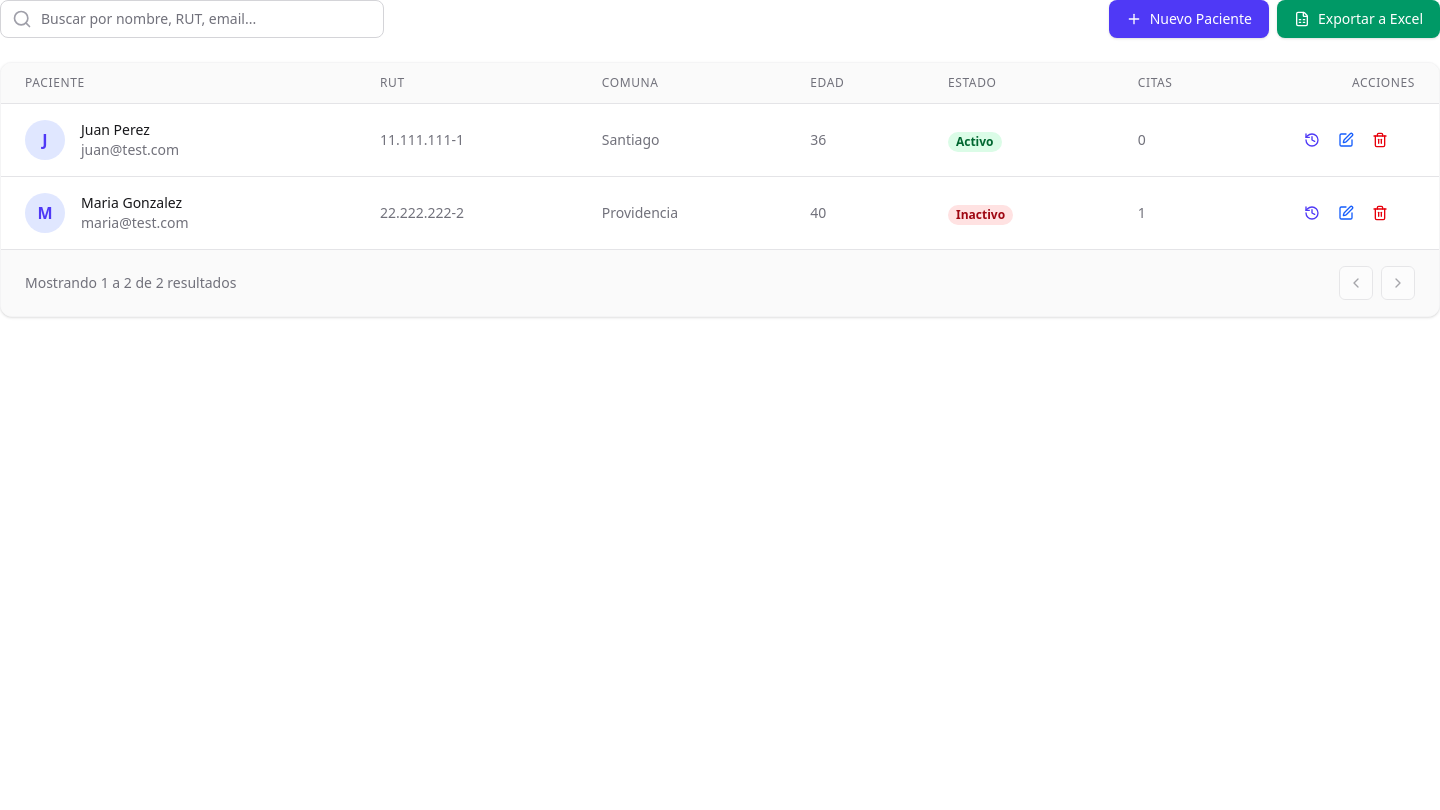
Test: PatientsTable Component › opens edit modal and pre-fills fields
Click the button titled "Editar" in the row of "Juan Perez" at (1346, 140), box [1333, 127, 1359, 153]
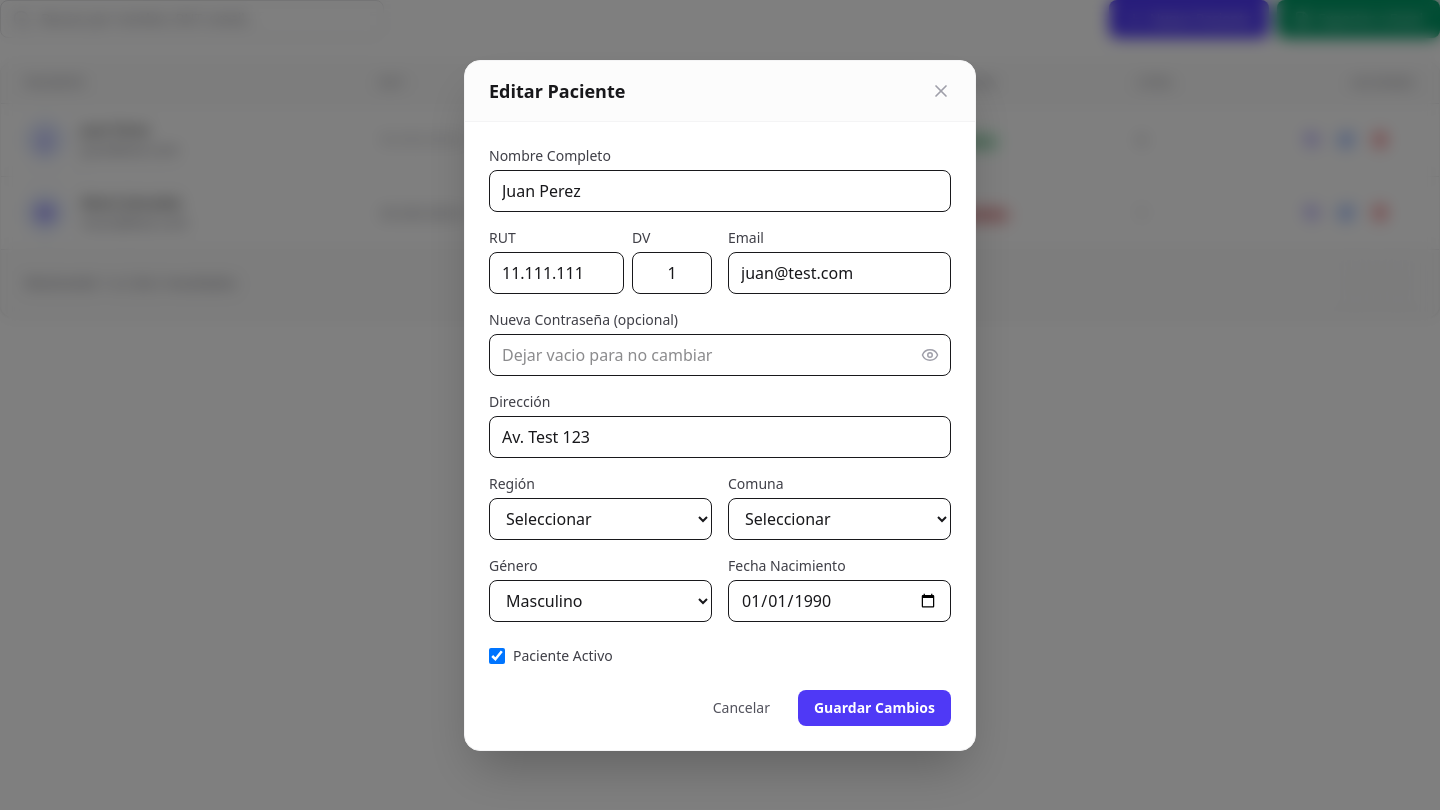
Check: the heading "Editar Paciente" is shown, box [489, 76, 625, 104]
Check: the field showing "Juan Perez" below "Nombre Completo" is shown, box [489, 170, 951, 212]
Check: the field showing "juan@test.com" below "Email" is shown, box [728, 252, 951, 294]
